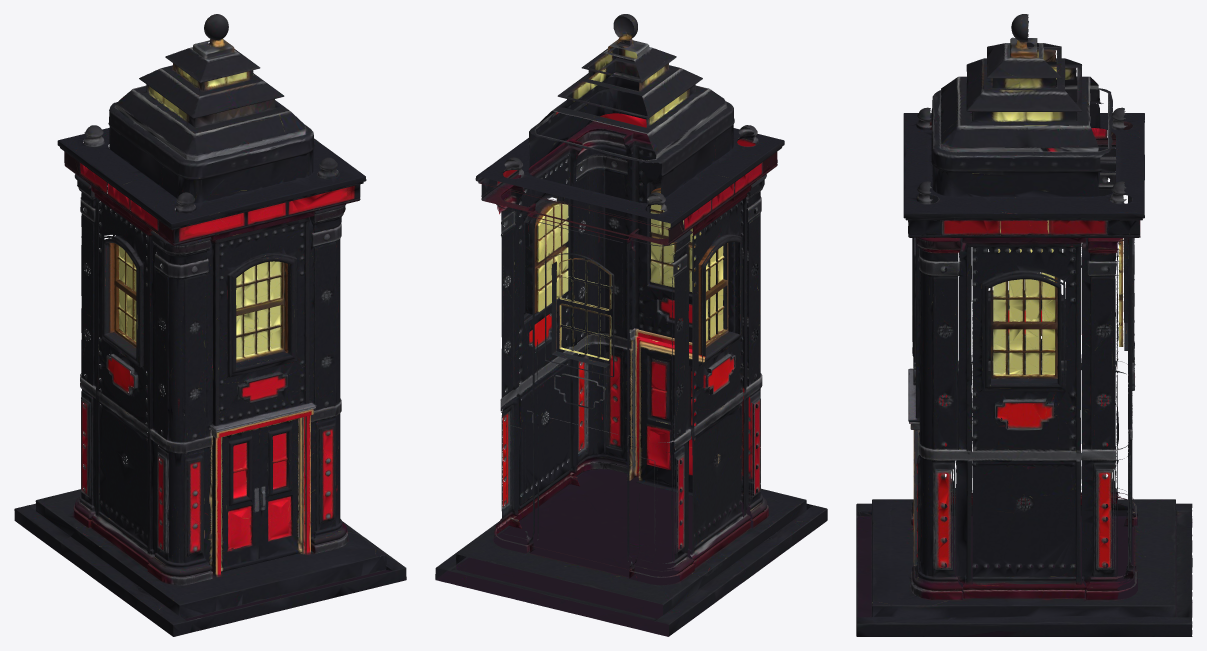
File: vault_block.glb
The picture shows the model from 3 angles, left to right: view 1: azimuth 30°, elevation 25°; view 2: azimuth 150°, elevation 25°; view 3: azimuth 270°, elevation 25°; orthographic projection. The views are drawn at different scales.
Bounding box in the file's own units: 0.871 × 1.9 × 1.03.
1 material, 1 textured.
